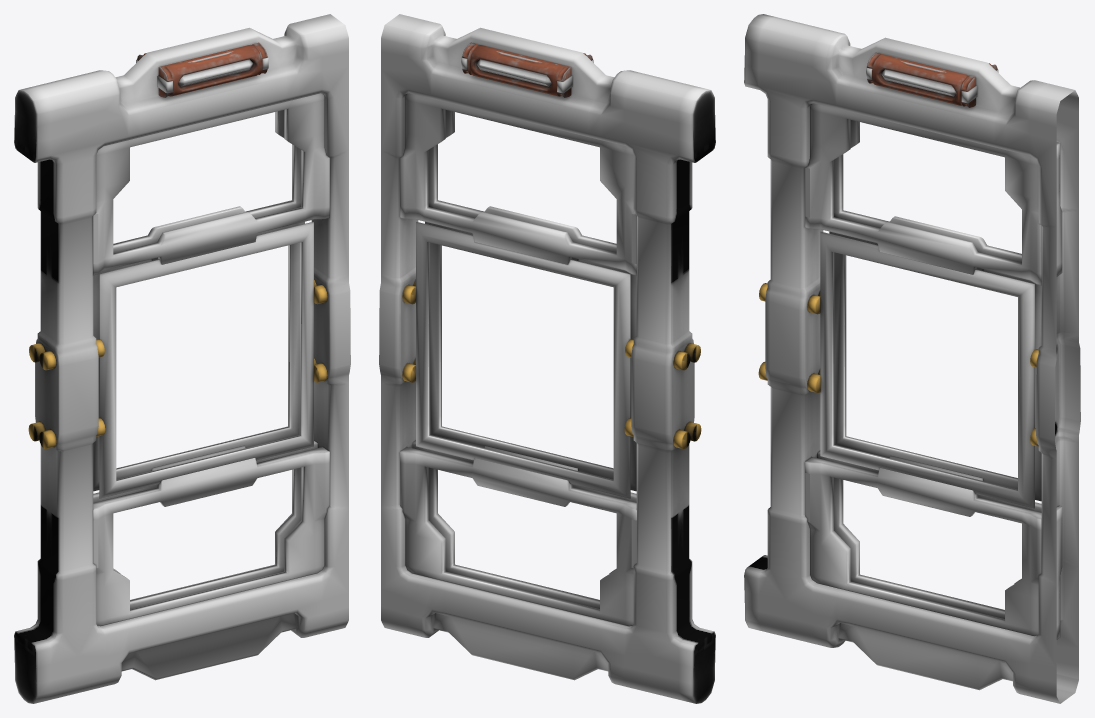
File: DoorGlassRight.fbx
3 views of the same model, side by side, from view 1: azimuth 30°, elevation 25°; view 2: azimuth 150°, elevation 25°; view 3: azimuth 330°, elevation 25° (orthographic).
Visible parts, largest first — view 1: DoorGlassRight_LOD0; view 2: DoorGlassRight_LOD0; view 3: DoorGlassRight_LOD0.
Boxes of the visible parts, x1,y1,x2,y2 form: DoorGlassRight_LOD0: (14, 14, 350, 703); DoorGlassRight_LOD0: (379, 14, 715, 703); DoorGlassRight_LOD0: (744, 14, 1080, 703).
Size of what is drawn, in the model's own units: 66.63 by 127 by 11.56.
